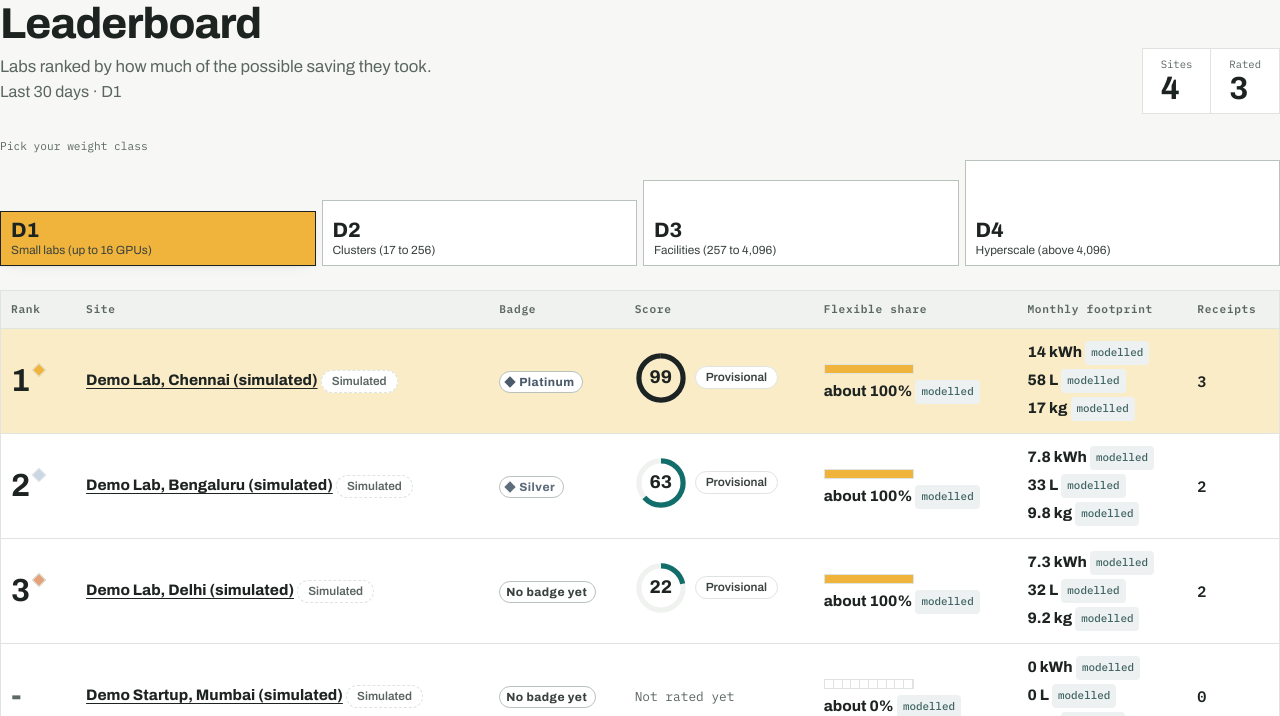
Test: LeaderboardPage › changes the query when a division tab is pressed
This screenshot has width=1280, height=716.
Click the button "D2 Clusters (17 to 256)".
click(384, 250)  # box left=322, top=200, right=637, bottom=266
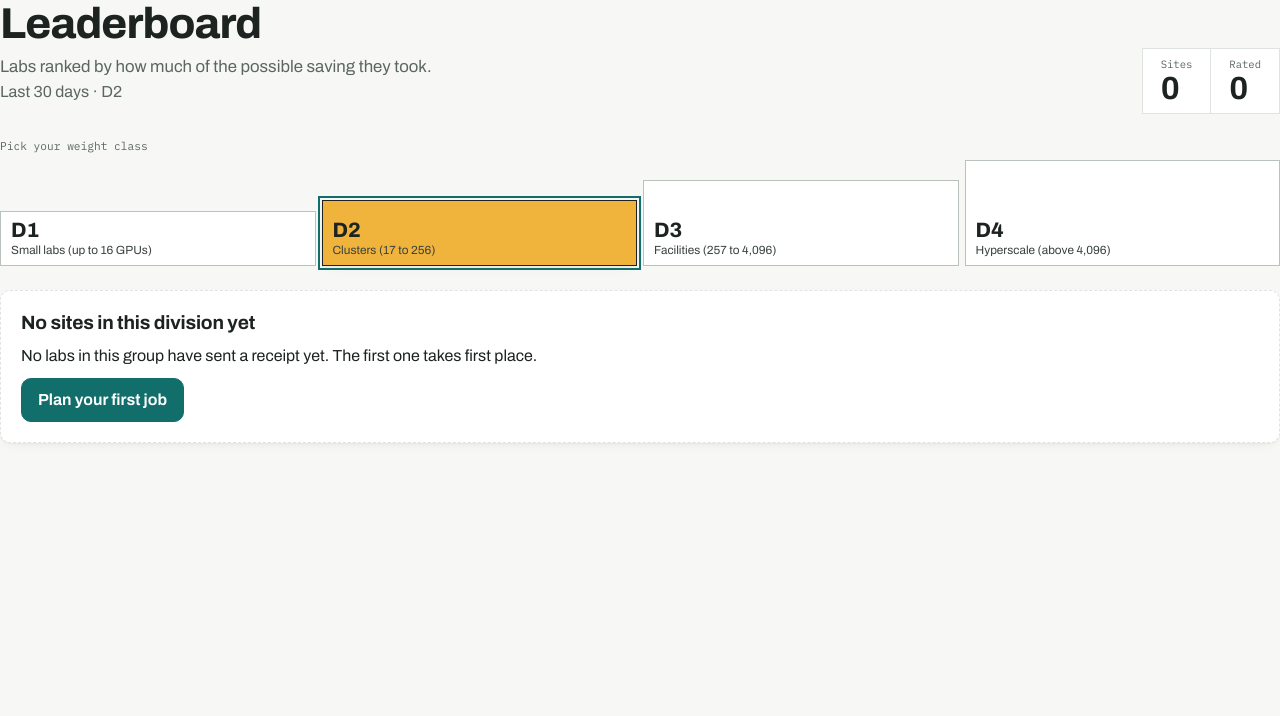
Now the heading "No sites in this division yet" is shown, box left=21, top=312, right=255, bottom=333
